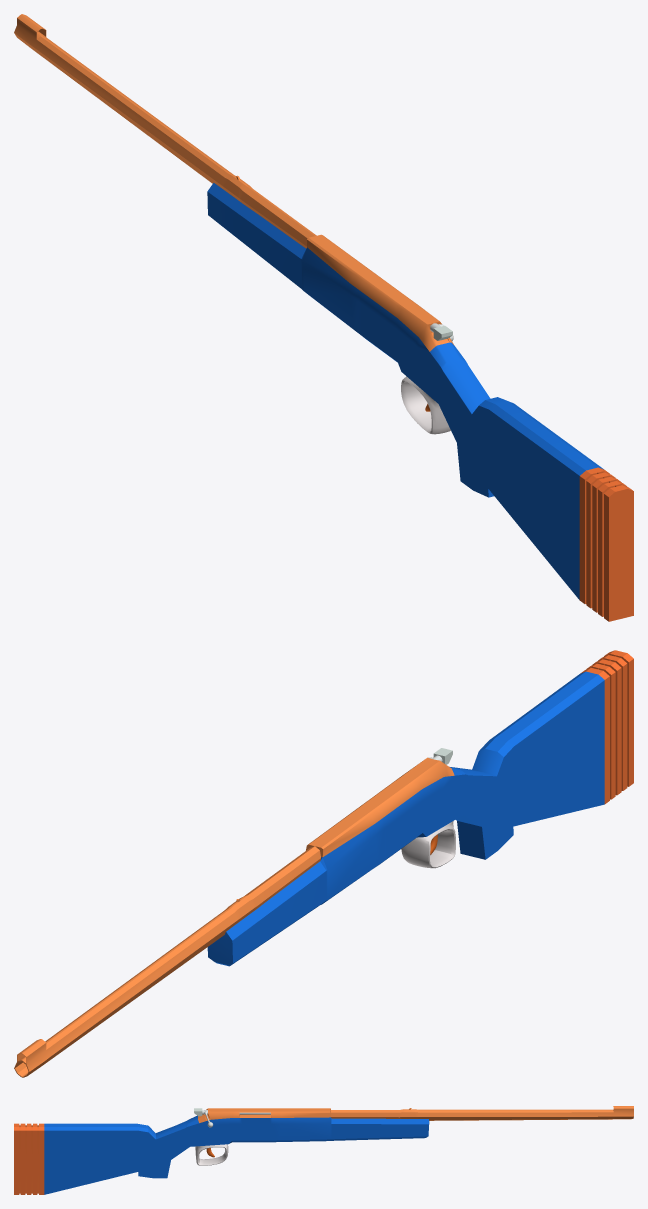
Rendered from HuntingRifle.fbx.
3 renders of one model, top to bottom at view 1: azimuth 30°, elevation 25°; view 2: azimuth 150°, elevation 25°; view 3: azimuth 270°, elevation 25°, orthographic. The views are drawn at different scales.
Visible parts, largest first — view 1: Rifle; view 2: Rifle; view 3: Rifle, BoltStick.
Boxes of the visible parts, x1=… form: Rifle: x1=14, y1=14, x2=633, y2=621; Rifle: x1=14, y1=650, x2=633, y2=1077; Rifle: x1=14, y1=1106, x2=633, y2=1194; BoltStick: x1=202, y1=1110, x2=270, y2=1127.
Bounding box in the file's own units: 73.13 × 318 × 2084.
